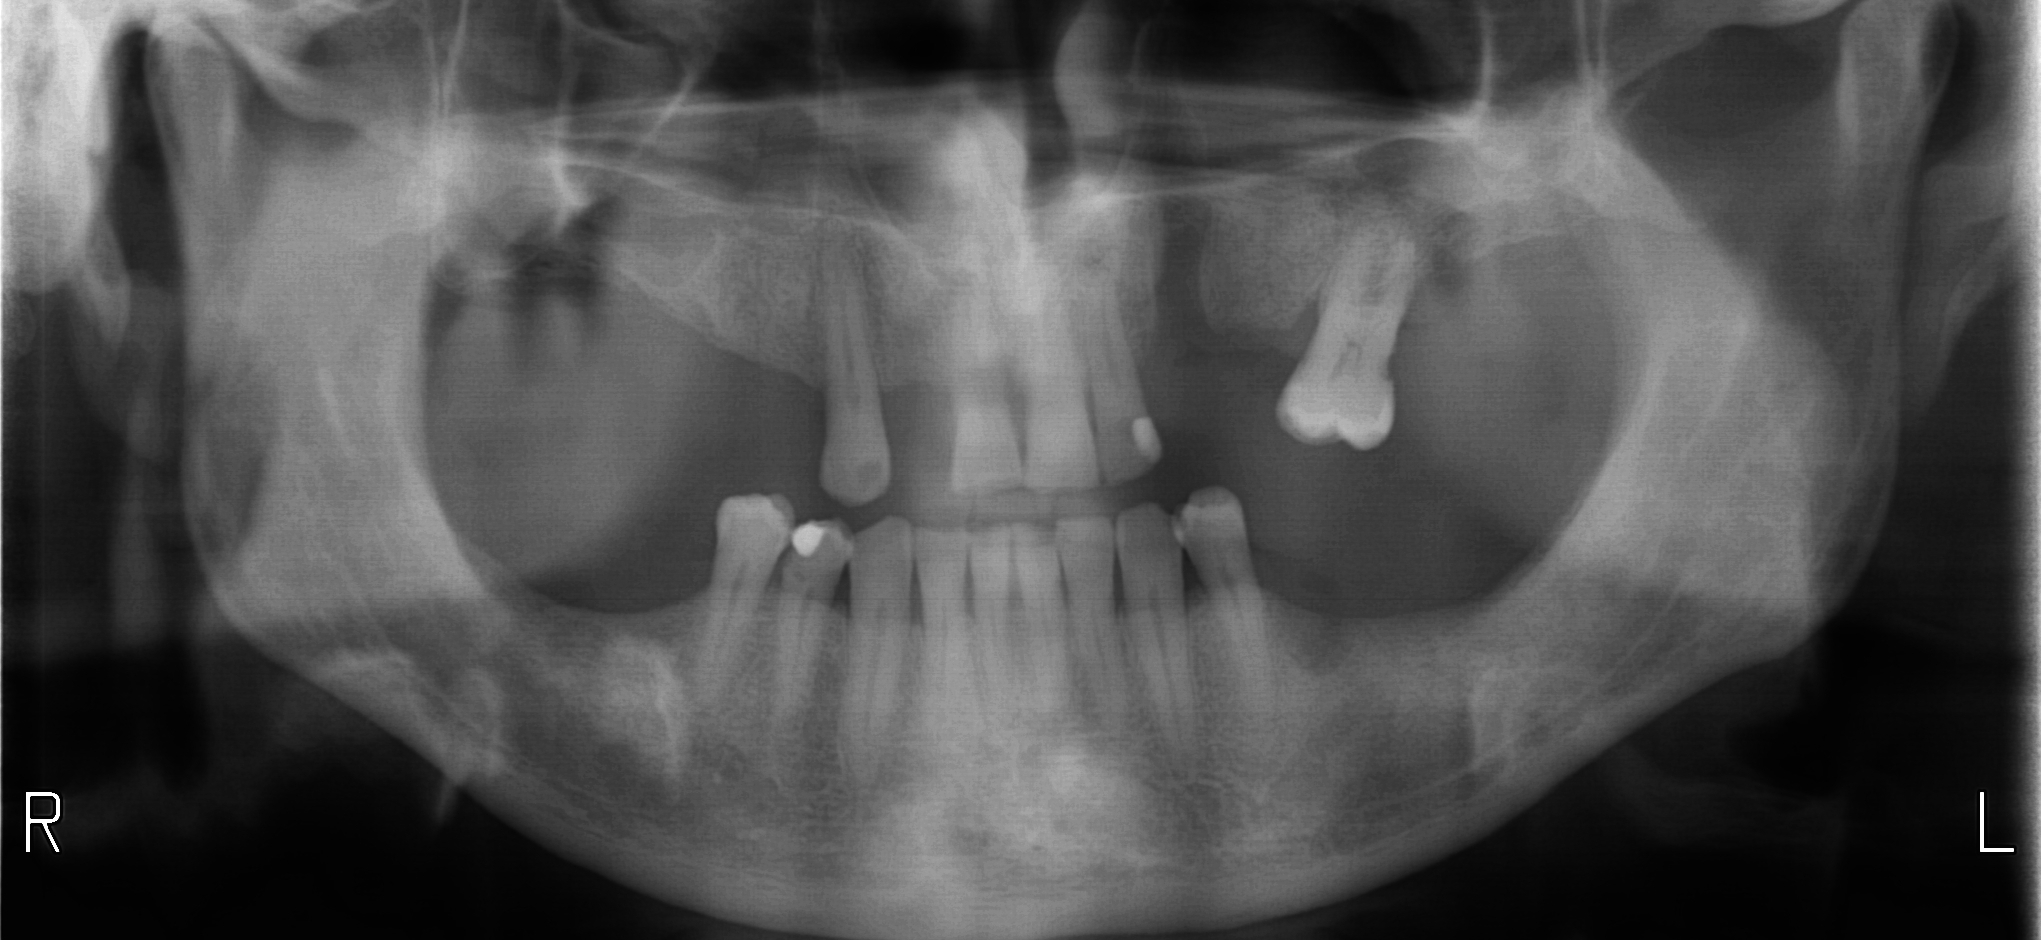cavity: (784, 549, 789, 562)
